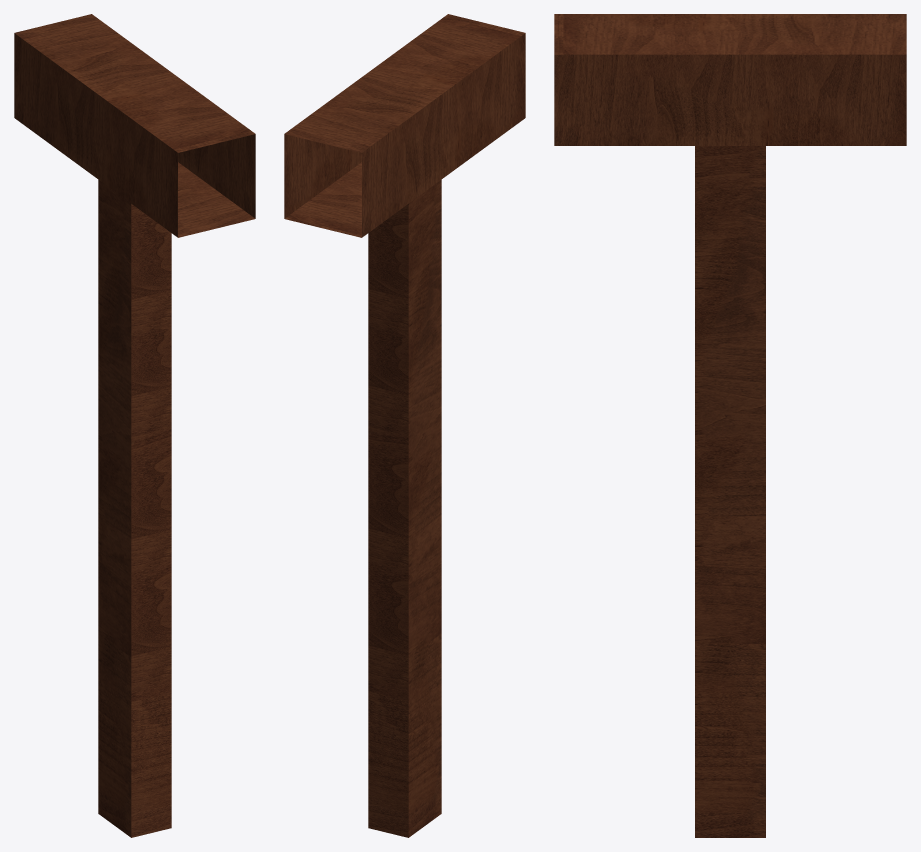
Rendered from Short.FBX.
3 renders of one model, left to right at view 1: azimuth 30°, elevation 25°; view 2: azimuth 150°, elevation 25°; view 3: azimuth 270°, elevation 25°, orthographic. The views are drawn at different scales.
Visible parts, largest first — view 1: Short; view 2: Short; view 3: Short.
Boxes of the visible parts, x1,y1,x2,y2 form: Short: (14,14,255,837); Short: (284,14,525,837); Short: (554,14,906,837).
Size of the model in its own units: 26.71 by 242 by 97.67.
